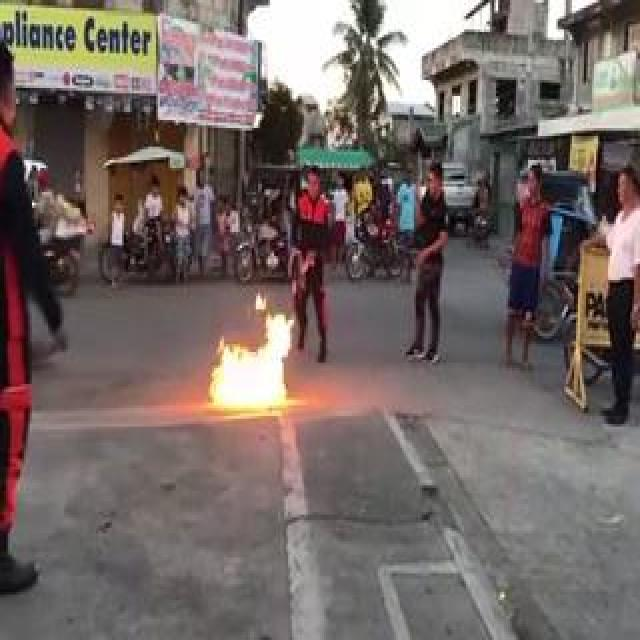Smoke: (206, 314, 294, 409)
